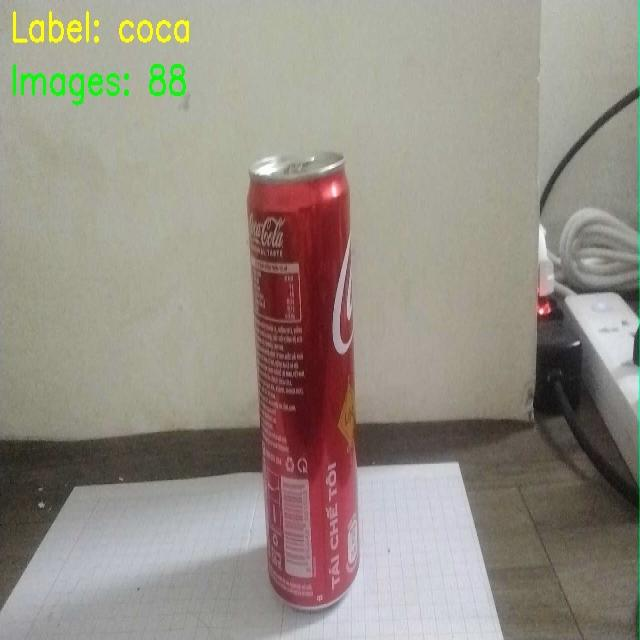Coca: (227, 131, 390, 629)
